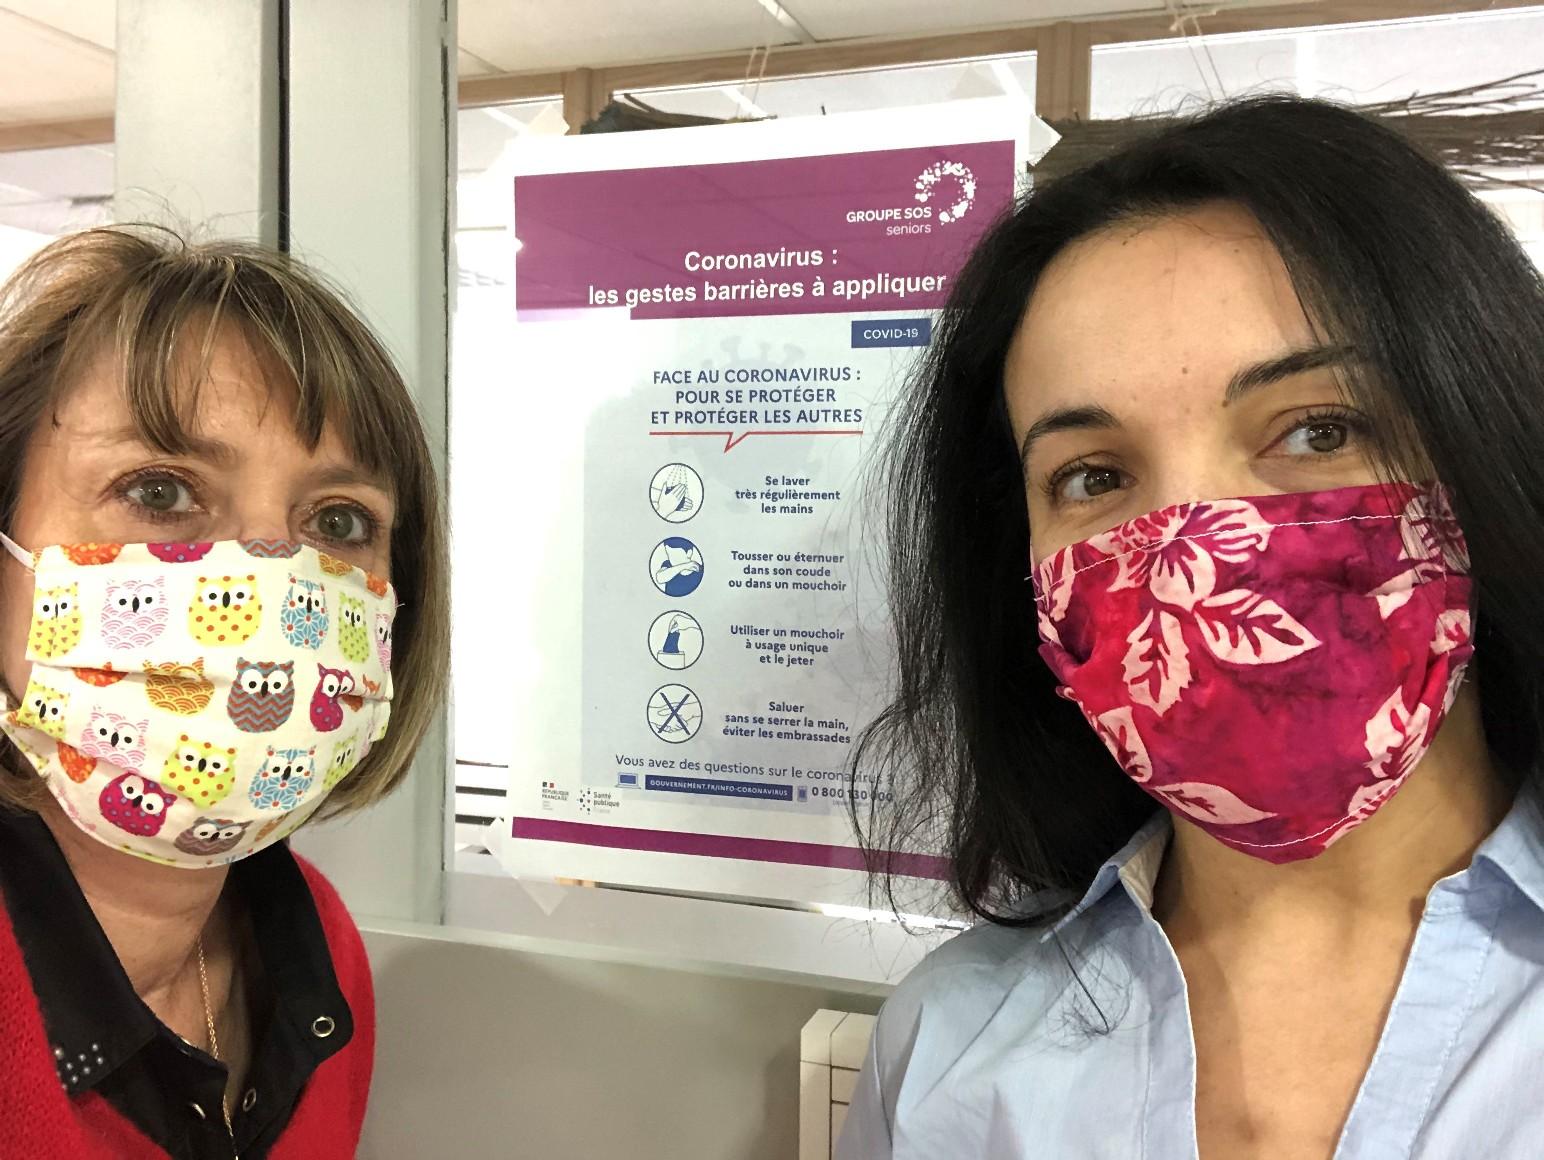with_mask: (1023, 320, 1471, 828), (11, 423, 402, 865)
